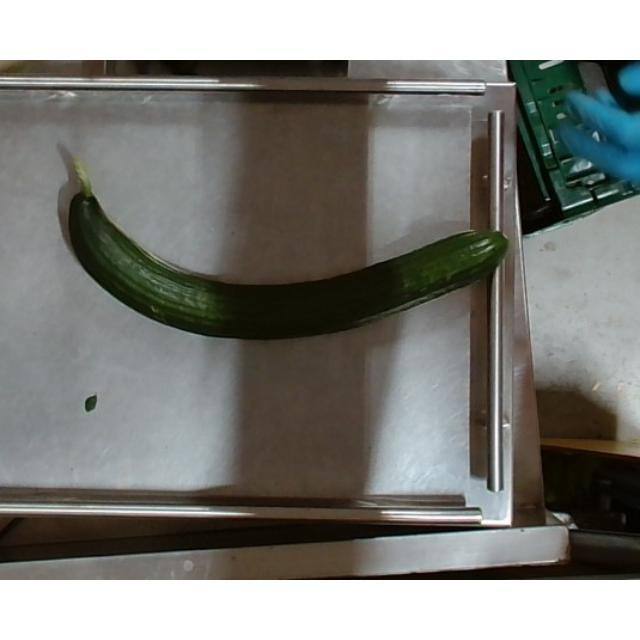cucumber: (68, 162, 510, 340)
